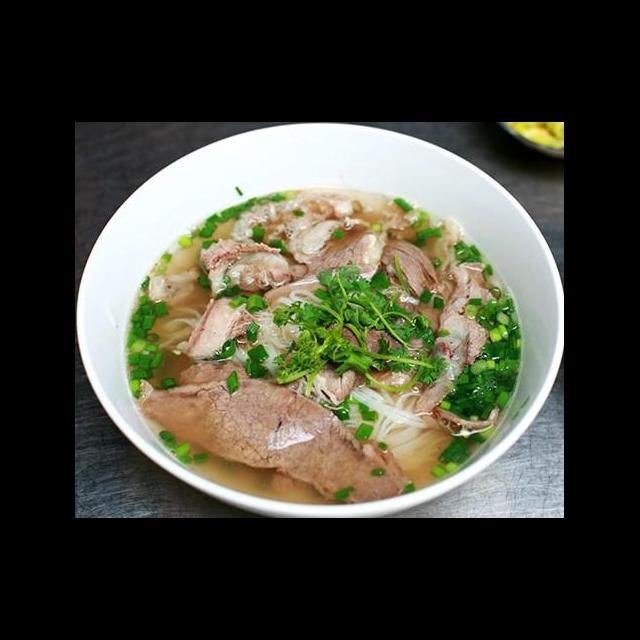banh pho: (338, 377, 458, 477), (150, 300, 208, 354)
pho bo: (104, 143, 564, 518)
thit bo: (138, 376, 416, 506), (411, 257, 502, 419), (324, 293, 446, 381), (278, 211, 390, 294), (192, 232, 316, 298), (170, 294, 262, 361), (310, 363, 358, 404)
